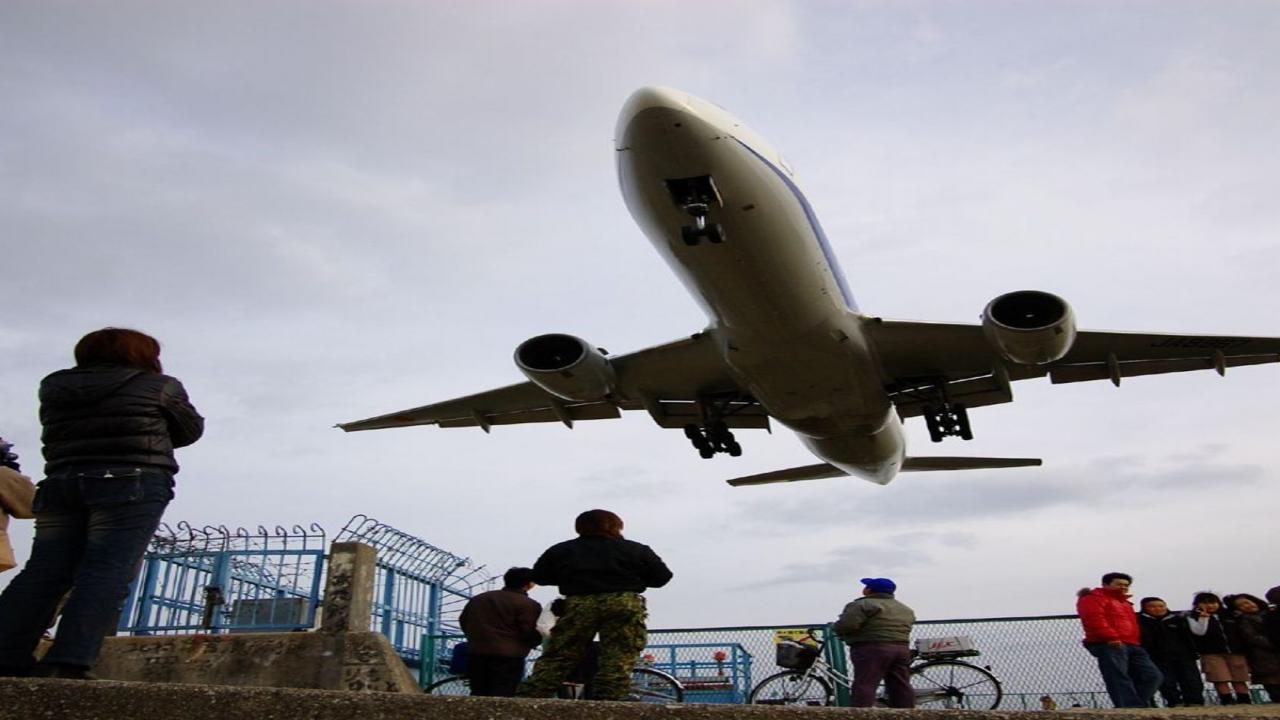Airplane: (314, 76, 1280, 496)
